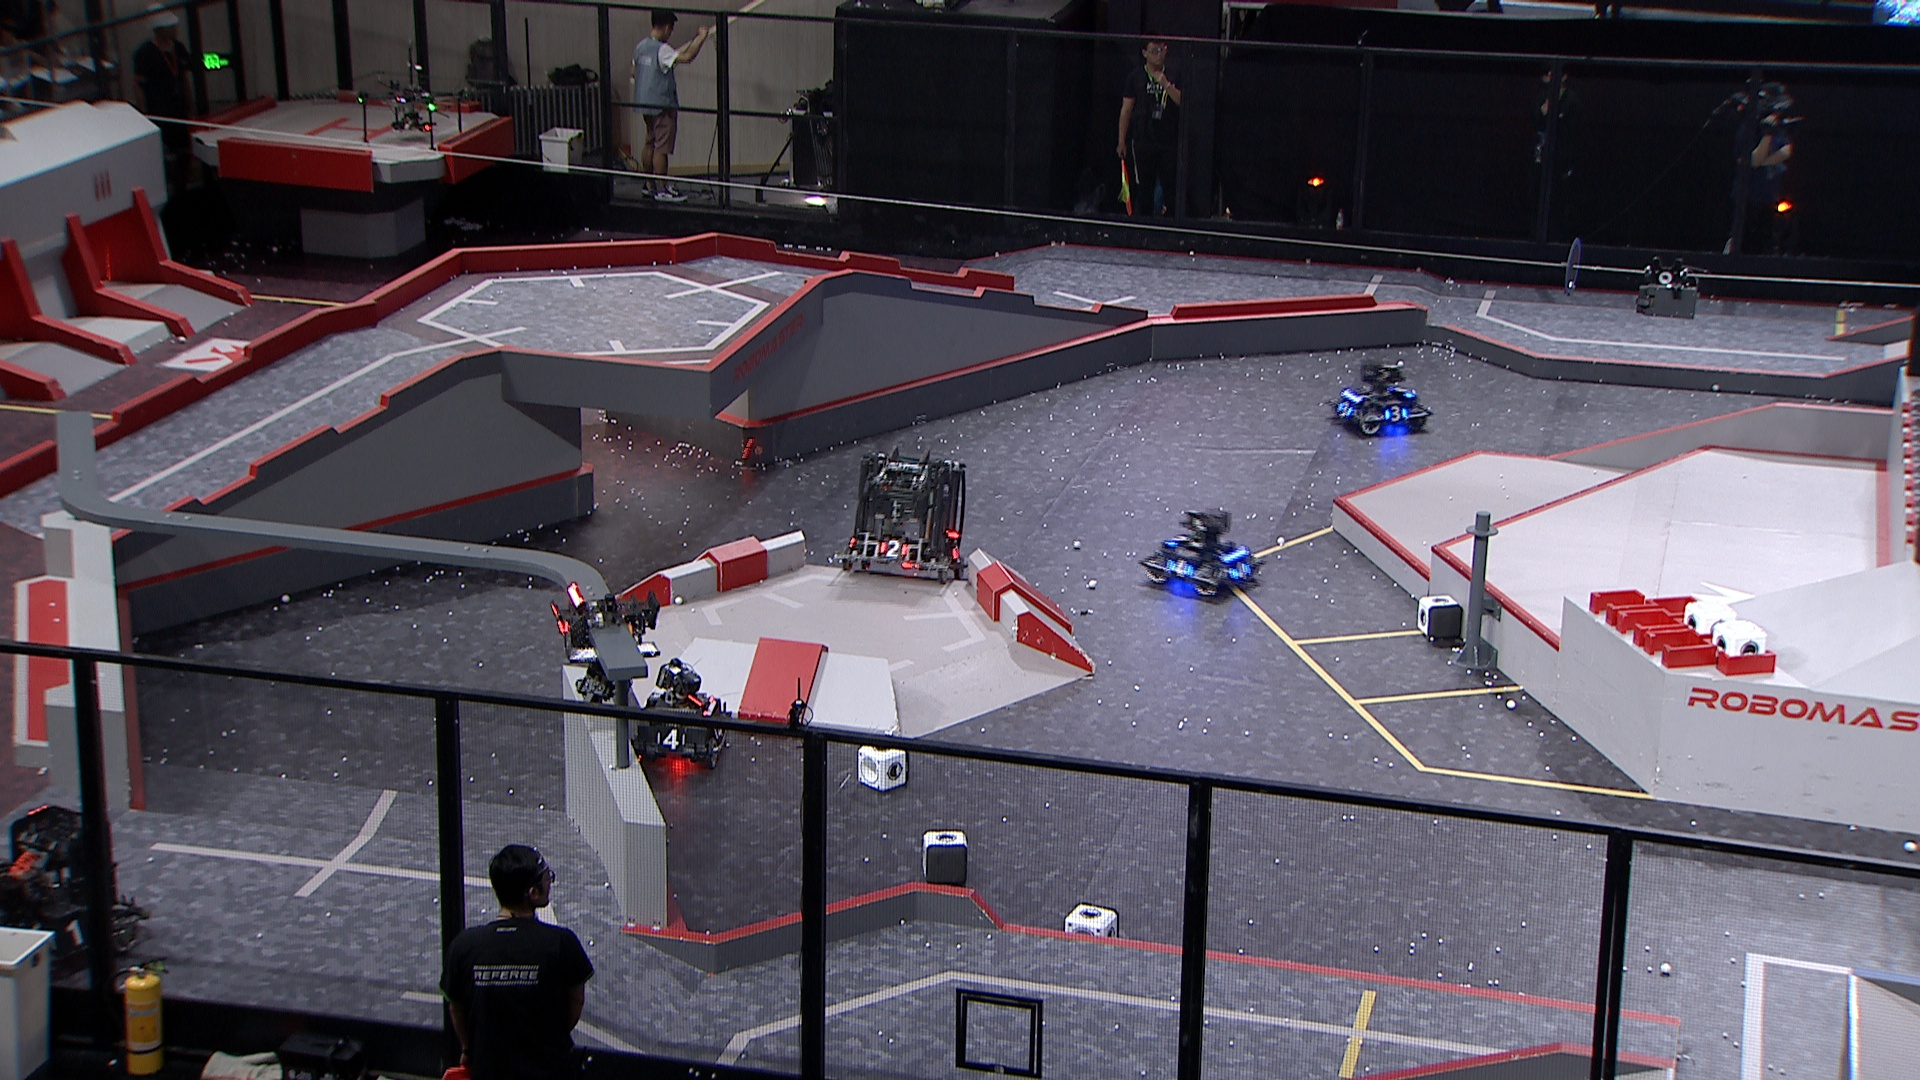armor: (45, 918, 86, 953), (655, 728, 688, 752), (1164, 556, 1196, 580), (878, 538, 910, 560), (551, 603, 570, 637), (1335, 400, 1357, 422), (1230, 560, 1253, 583), (1164, 531, 1191, 550), (1385, 405, 1408, 423), (1393, 385, 1419, 401)
car: (837, 446, 973, 585), (1139, 506, 1266, 600), (632, 659, 731, 770), (1327, 360, 1433, 436)
watcher: (551, 582, 661, 709)
